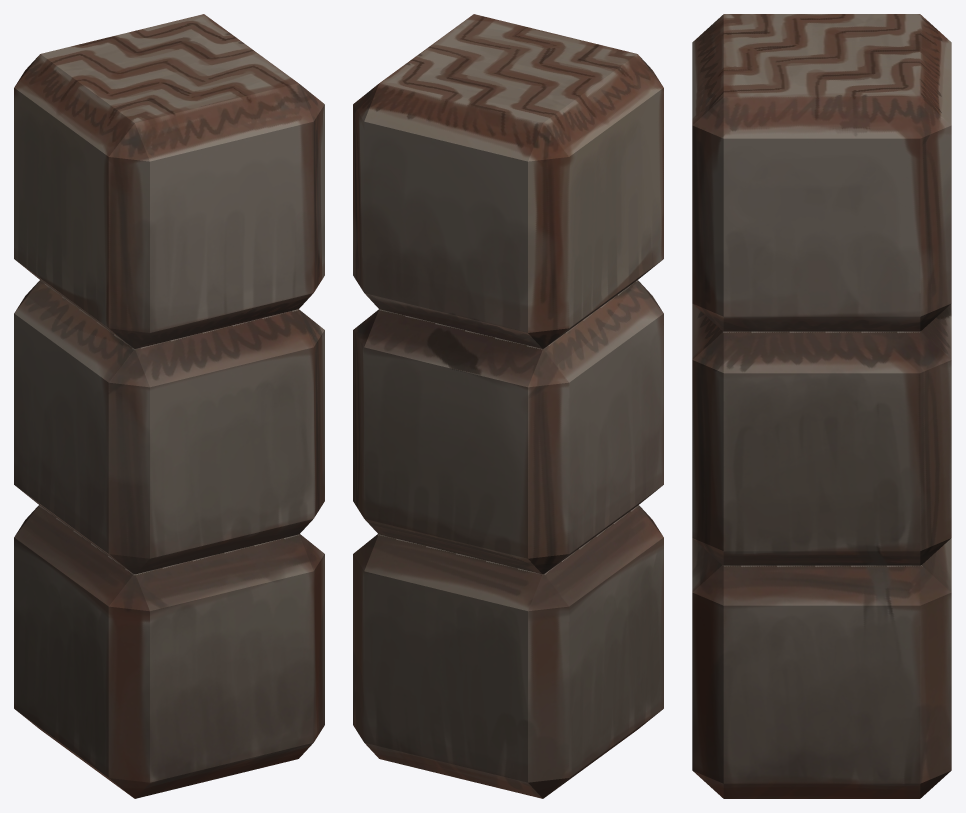
Rendered from pilier.fbx.
The picture shows the model from 3 angles, left to right: view 1: azimuth 30°, elevation 25°; view 2: azimuth 150°, elevation 25°; view 3: azimuth 270°, elevation 25°; orthographic projection. The views are drawn at different scales.
Parts seen in each view (by area): view 1: Cube.002; view 2: Cube.002; view 3: Cube.002.
Boxes of the visible parts, left/top/right/bottom form: Cube.002: left=14, top=14, right=324, bottom=798; Cube.002: left=353, top=14, right=663, bottom=798; Cube.002: left=692, top=14, right=951, bottom=798.
Size of the model in its own units: 19.26 by 57.54 by 19.26.
